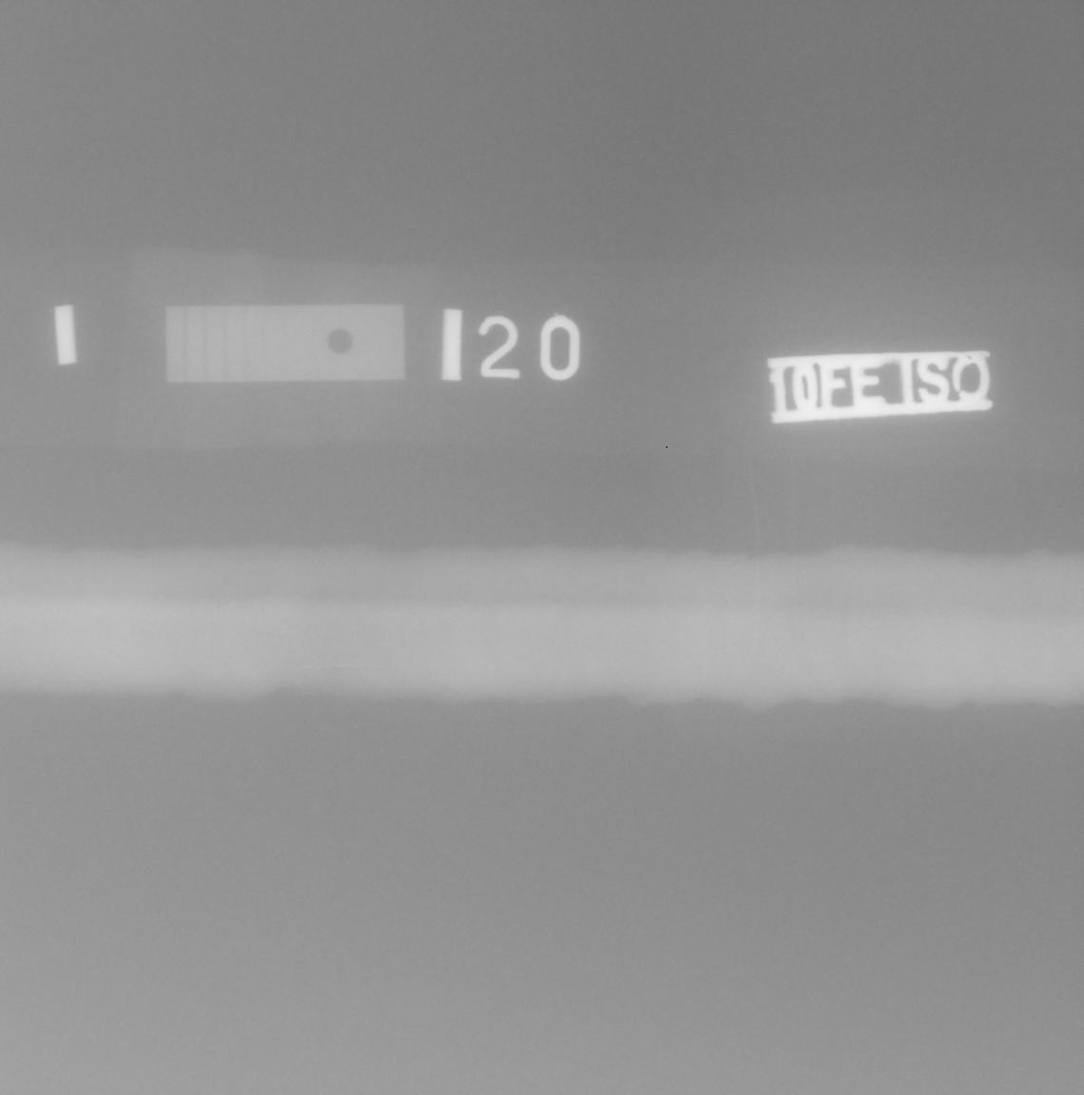Inclusion: (248, 665, 260, 672), (323, 668, 359, 670), (294, 660, 304, 666), (377, 668, 384, 671), (364, 667, 369, 671)
Reference Standard 1: (165, 304, 405, 382)
